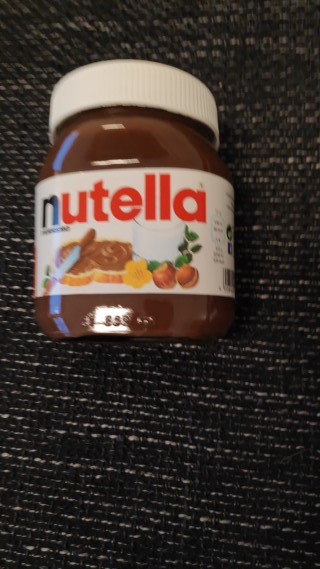nutella: (32, 57, 237, 342)
